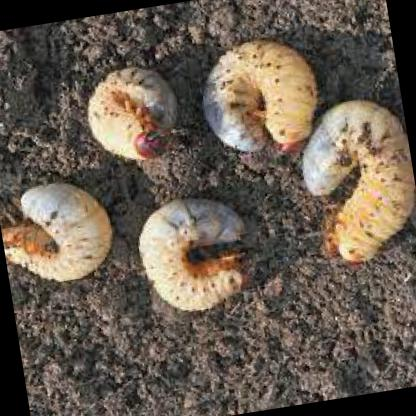root grubs: (301, 100, 416, 261), (201, 38, 318, 156), (142, 198, 251, 308), (11, 182, 111, 279), (88, 65, 173, 158)
